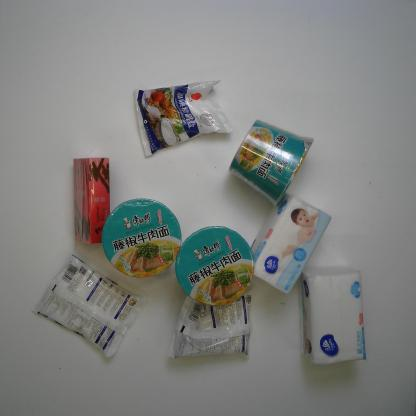Instant Drink: (73, 155, 111, 245)
Instant Noodles: (228, 118, 315, 208), (100, 197, 184, 279), (174, 225, 256, 307)
Seasoner: (31, 250, 150, 359), (132, 78, 234, 157), (164, 294, 254, 359)
Tissue: (250, 190, 334, 297), (298, 264, 368, 367)
